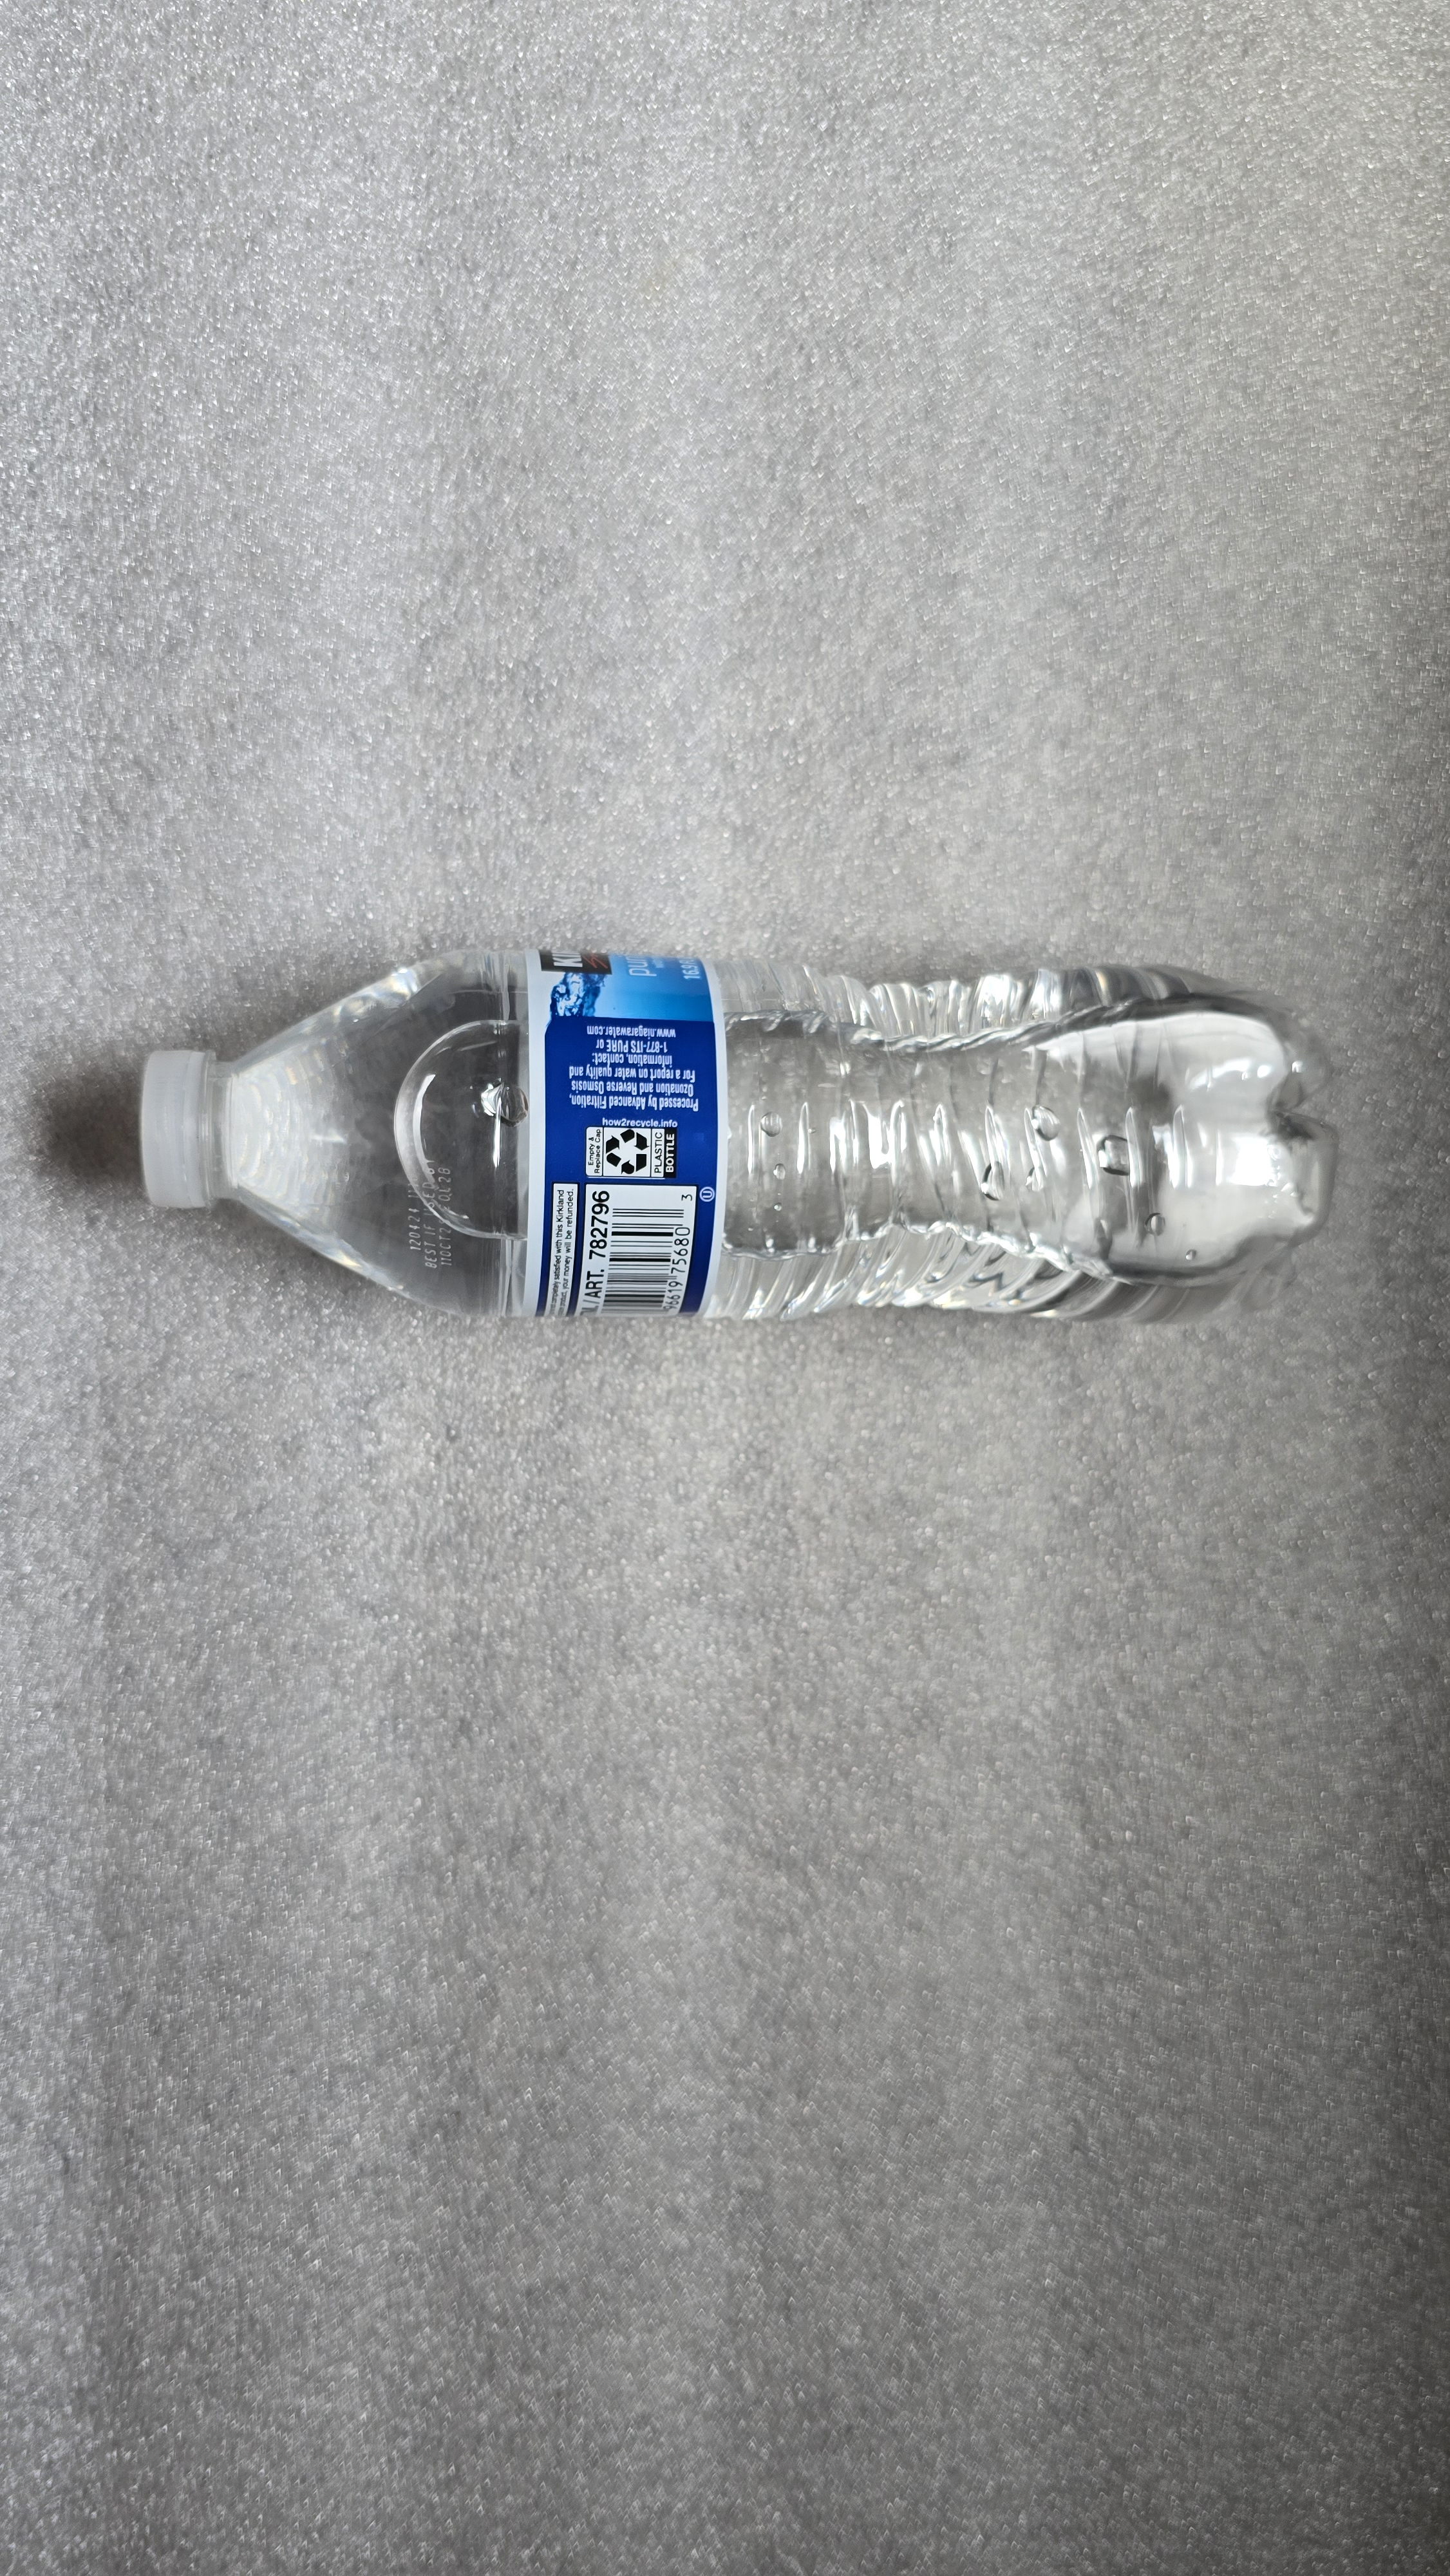bottle: (122, 908, 1376, 1369)
